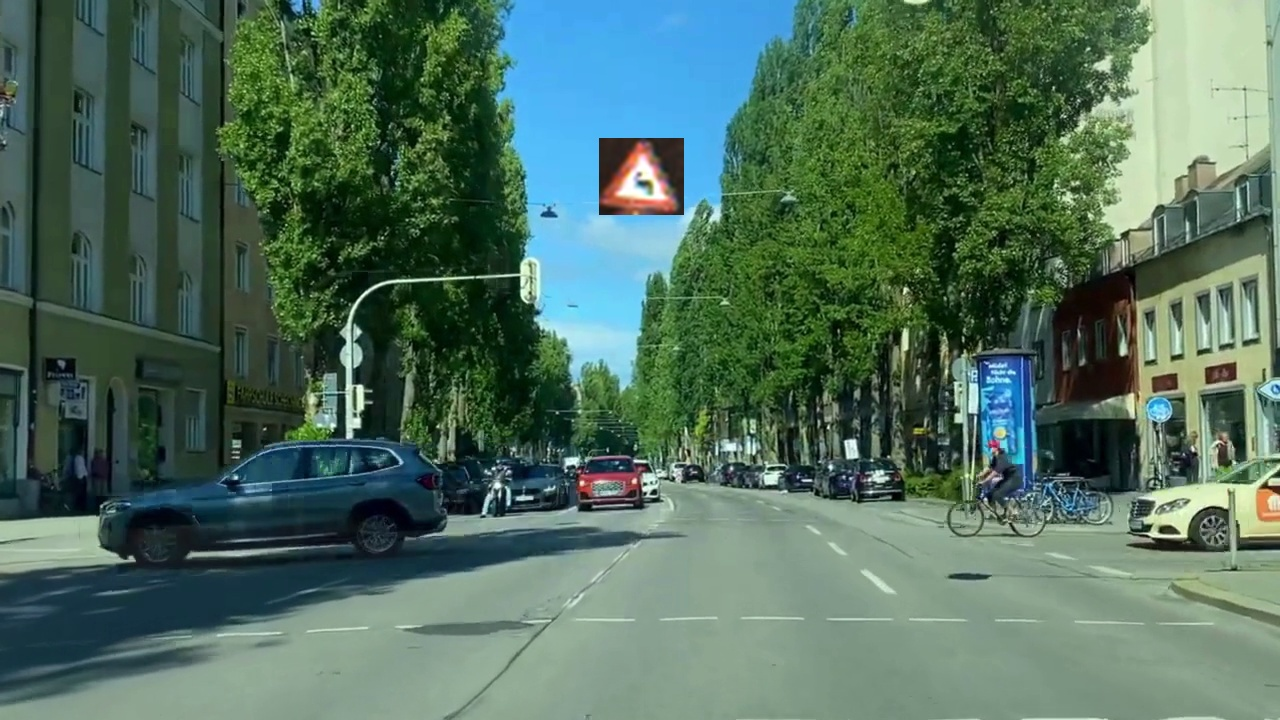Double curve: (599, 138, 684, 215)
